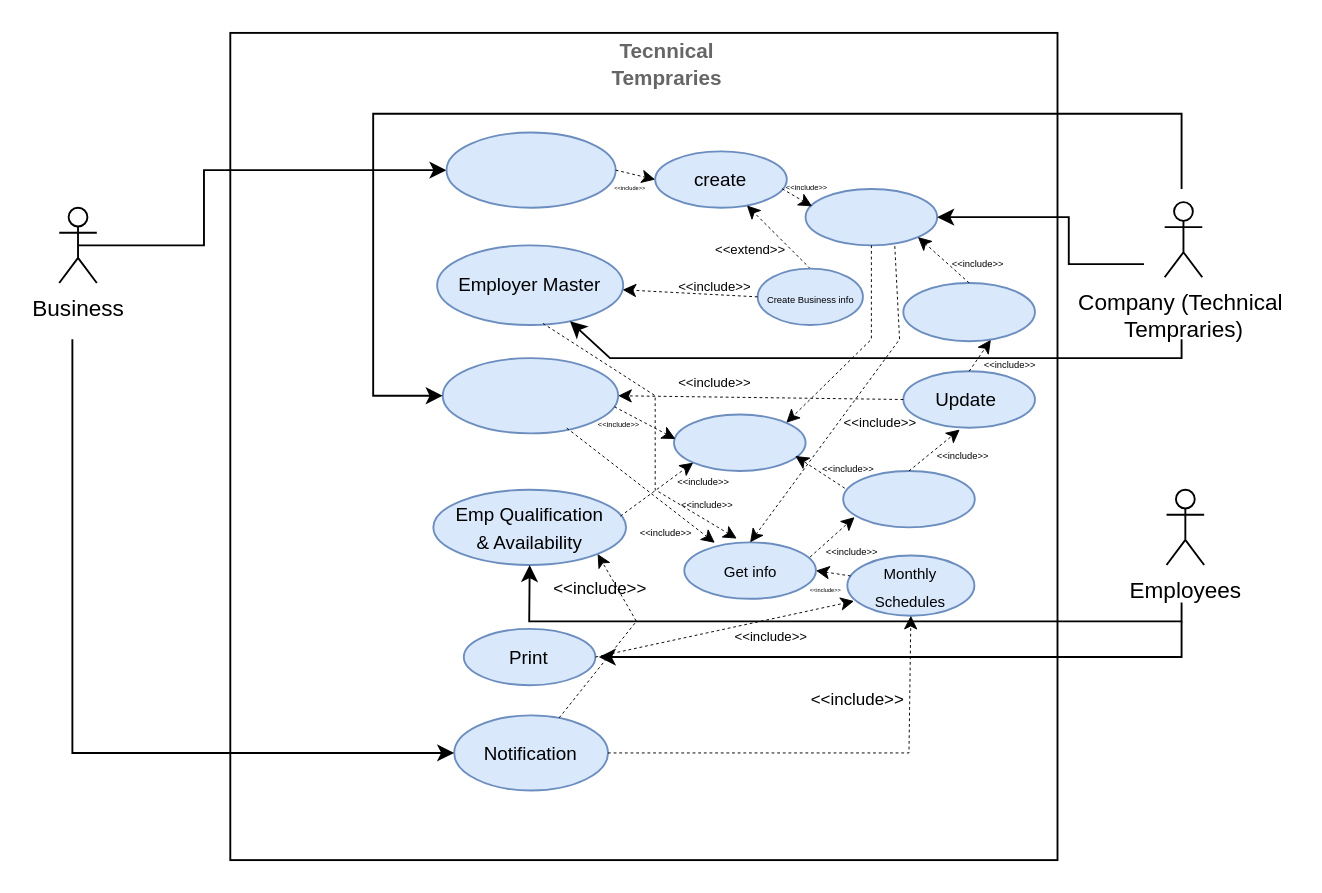
Some shapes in this 1322 by 893 pixel diagram are drawn without their labels. Each missing label, with the centre of its shape:
Emp Req Record: (x=870, y=216)
Employee Master: (x=529, y=394)
Generate Contract: (x=908, y=498)
Qualified candidates: (x=739, y=442)
Request: (x=530, y=169)
schedulling &personal info: (x=968, y=311)
